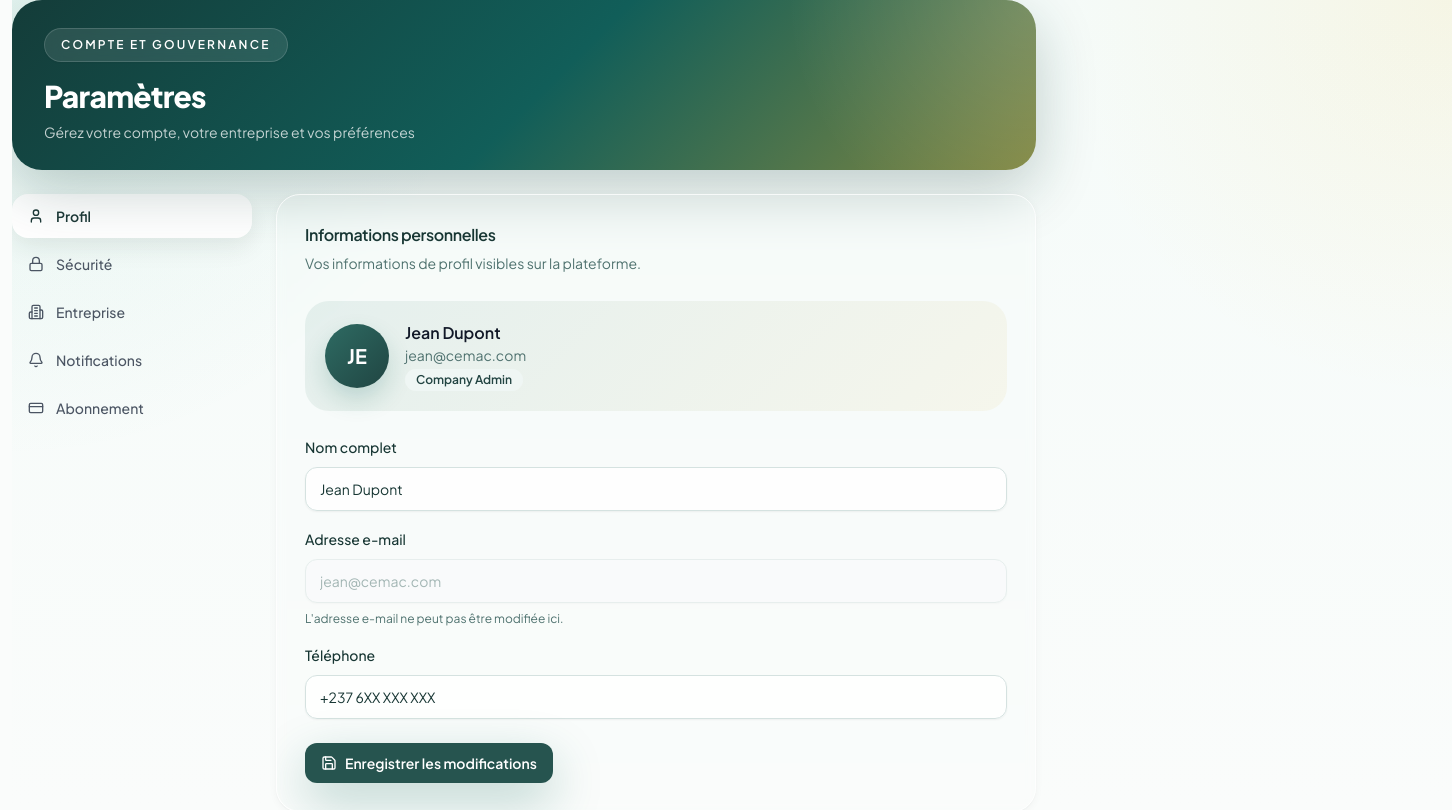
Test case: SettingsPage — security tab › shows password change form on clicking Sécurité
Click the button "Sécurité" at [132, 264], box [12,242,252,286]
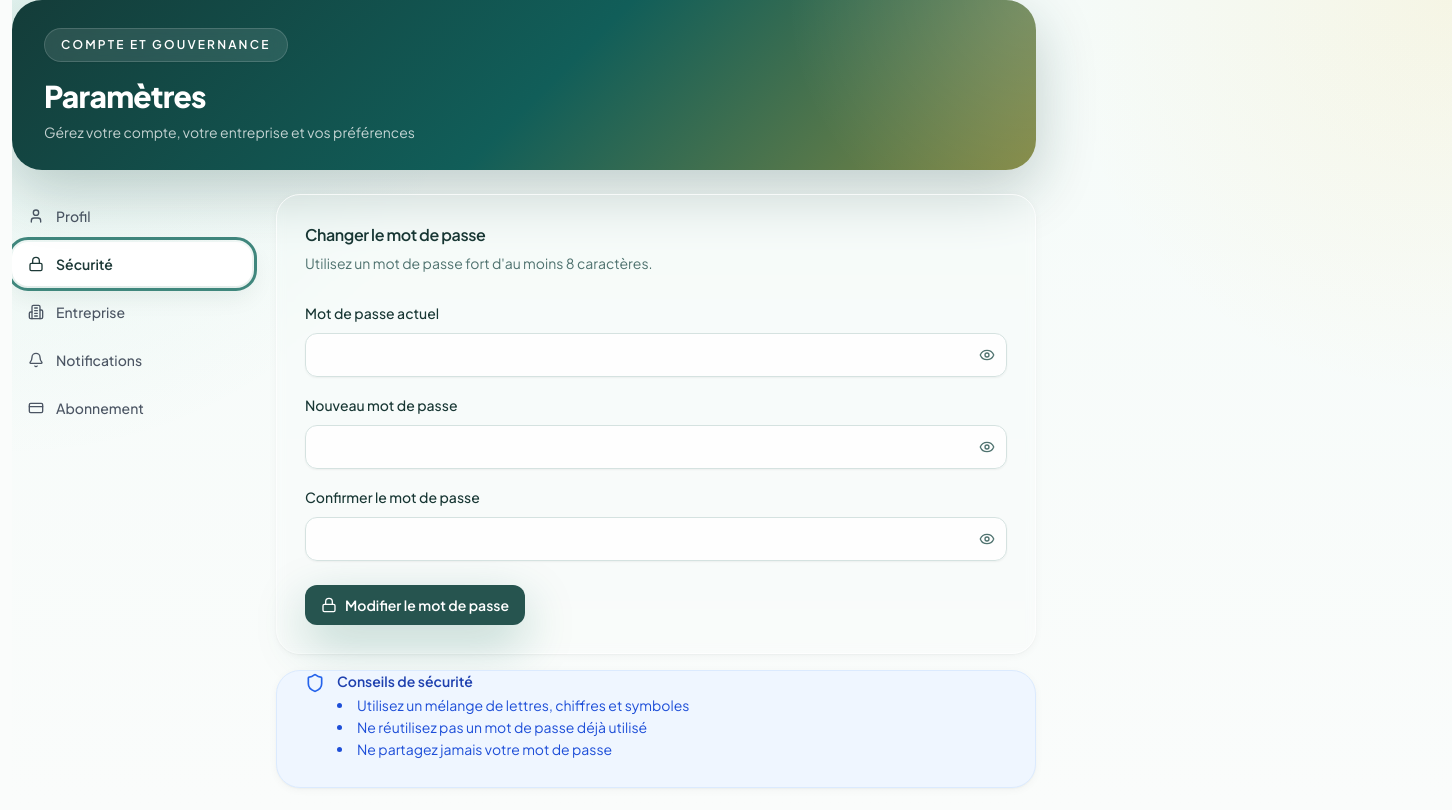
Expected: the password field labelled "Mot de passe actuel" is shown, [305,333,1007,377]
Expected: the password field labelled "Nouveau mot de passe" is shown, [305,425,1007,469]
Expected: the password field labelled "Confirmer le mot de passe" is shown, [305,517,1007,561]
